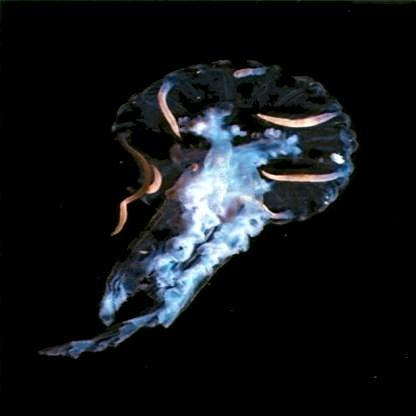Mosaic: (42, 60, 377, 356)
